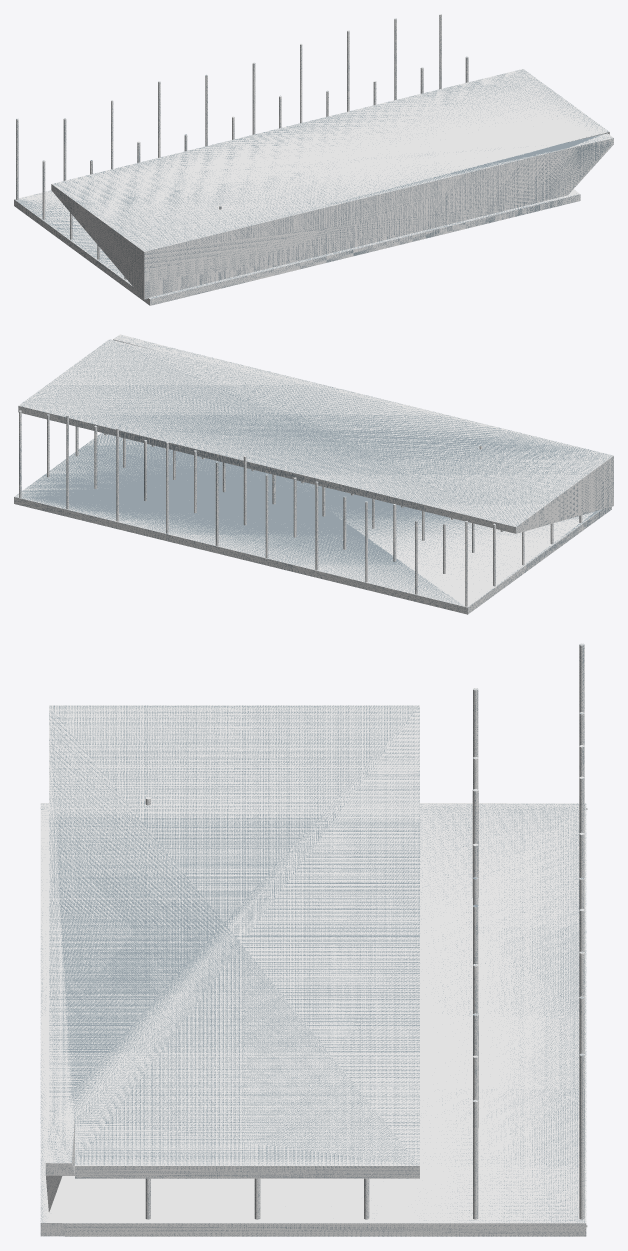
Rendered from Worldbaseobj.dae.
The picture shows the model from 3 angles, top to bottom: view 1: azimuth 30°, elevation 25°; view 2: azimuth 150°, elevation 25°; view 3: azimuth 270°, elevation 25°; orthographic projection. The views are drawn at different scales.
Visible parts, largest first — view 1: group_0 (×2); view 2: group_0 (×3); view 3: group_0 (×3).
Boxes of the visible parts, x1,y1,x2,y2 form: group_0 (×2): (14,69,613,305); group_0 (×3): (14,334,613,614); group_0 (×3): (40,705,586,1236).
Size of the model in its own units: 7867 by 3944 by 1515.
